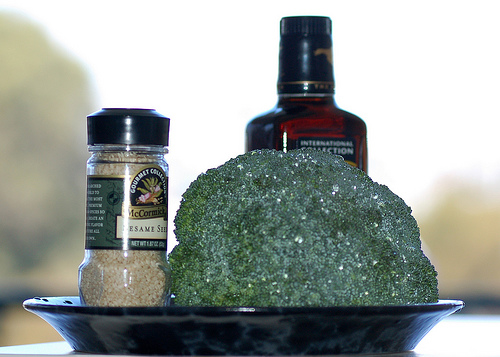broccoli: (165, 147, 438, 312)
